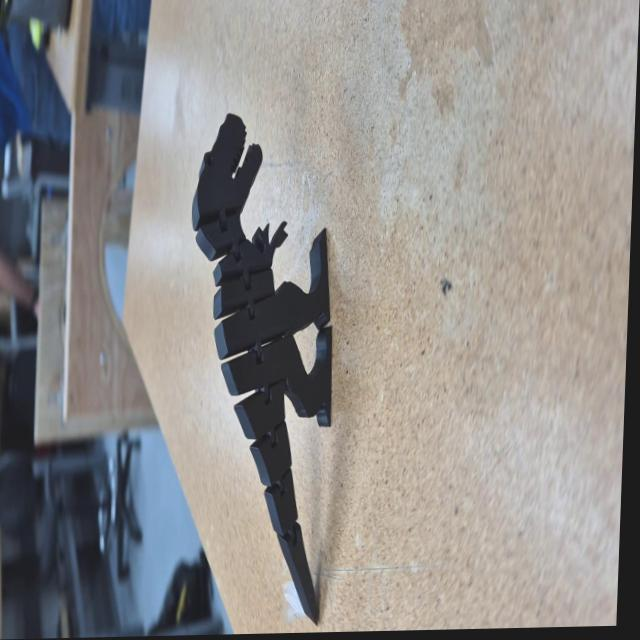dino: (174, 109, 342, 632)
